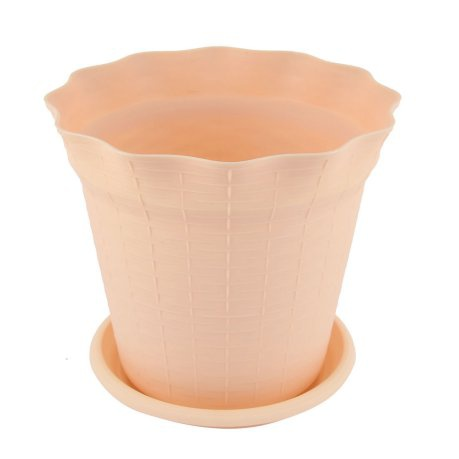flowerpot: (44, 48, 402, 428)
